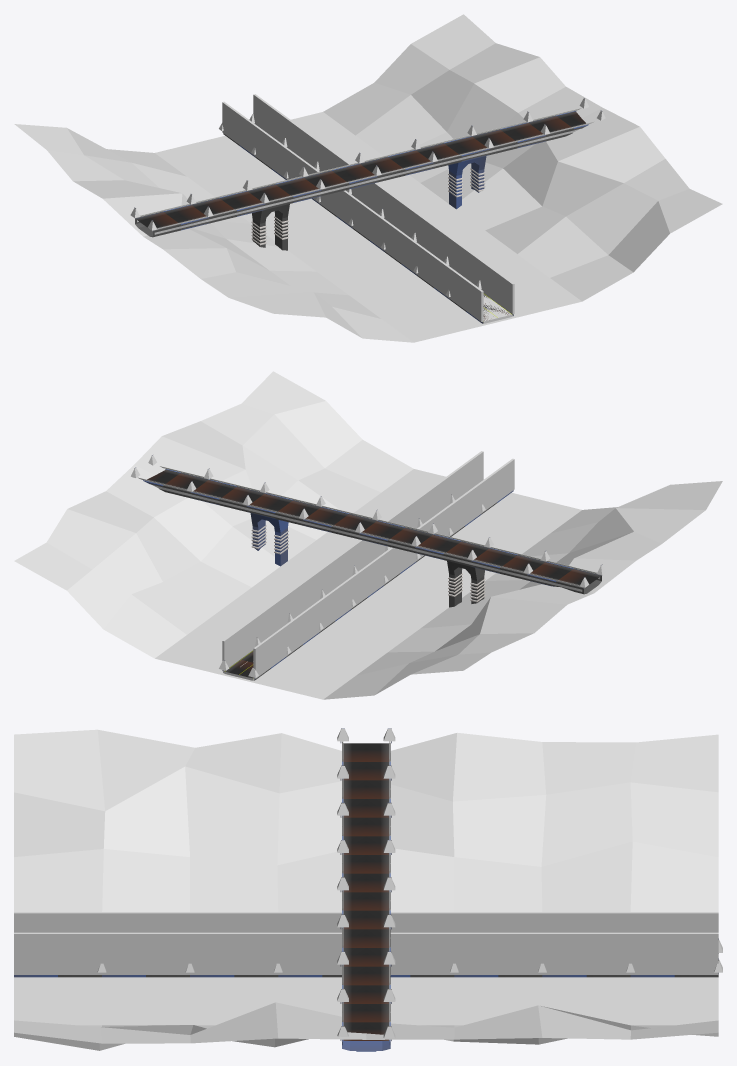
Rendered from RoadLevel1_var2.fbx.
3 renders of one model, top to bottom at view 1: azimuth 30°, elevation 25°; view 2: azimuth 150°, elevation 25°; view 3: azimuth 270°, elevation 25°, orthographic. The views are drawn at different scales.
Parts seen in each view (by area): view 1: RoadLevel1_var2, RoadLevel1_cldr_walls; view 2: RoadLevel1_var2, RoadLevel1_cldr_walls; view 3: RoadLevel1_var2, RoadLevel1_cldr_walls.
Boxes of the visible parts, x1,y1,x2,y2 form: RoadLevel1_var2: [14, 14, 722, 342]; RoadLevel1_cldr_walls: [222, 94, 514, 321]; RoadLevel1_var2: [14, 371, 722, 699]; RoadLevel1_cldr_walls: [222, 451, 514, 678]; RoadLevel1_var2: [14, 728, 722, 1051]; RoadLevel1_cldr_walls: [14, 912, 718, 974].
Bounding box in the file's own units: 426 × 62.5 × 402.
